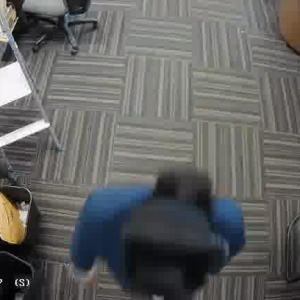person: (74, 175, 233, 295)
